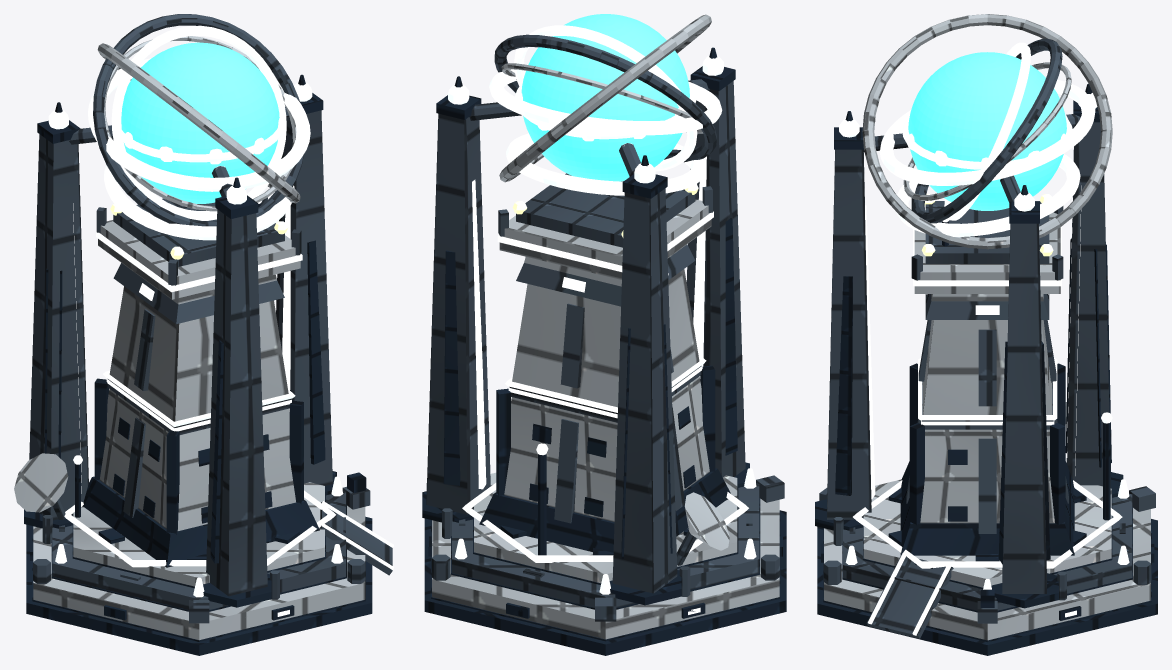
Rendered from CommandNexus.fbx.
3 views of the same model, side by side, from view 1: azimuth 30°, elevation 25°; view 2: azimuth 150°, elevation 25°; view 3: azimuth 270°, elevation 25° (orthographic). The views are drawn at different scales.
Visible parts, largest first — view 1: Pylon_03, Pylon_02, Reactor_Core, Tower_Upper, Tower_Lower, Pylon_01, Foundation_Hex_Base, Foundation_Hex_Mid, Foundation_Plinth, Tower_Skirt, Containment_Ring_02, Foundation_Hex_Top (+30 smaller); view 2: Pylon_02, Pylon_01, Reactor_Core, Tower_Upper, Foundation_Hex_Base, Pylon_03, Tower_Lower, Foundation_Hex_Mid, Foundation_Plinth, Tower_Skirt, Crown_Upper, Foundation_Hex_Top (+38 smaller); view 3: Pylon_01, Reactor_Core, Pylon_02, Pylon_03, Containment_Ring_03, Foundation_Hex_Base, Tower_Upper, Tower_Lower, Foundation_Hex_Top, Foundation_Hex_Mid, Foundation_Plinth, Tower_Skirt (+34 smaller).
Boxes of the visible parts, left/top/right/bottom form: Pylon_03: left=206, top=209, right=267, bottom=596; Pylon_02: left=29, top=134, right=88, bottom=520; Reactor_Core: left=121, top=42, right=279, bottom=203; Tower_Upper: left=109, top=286, right=288, bottom=421; Tower_Lower: left=99, top=389, right=295, bottom=530; Pylon_01: left=276, top=110, right=332, bottom=485; Foundation_Hex_Base: left=33, top=505, right=365, bottom=640; Foundation_Hex_Mid: left=52, top=491, right=345, bottom=609; Foundation_Plinth: left=26, top=516, right=372, bottom=655; Tower_Skirt: left=83, top=476, right=319, bottom=567; Containment_Ring_02: left=93, top=14, right=303, bottom=226; Foundation_Hex_Top: left=73, top=482, right=324, bottom=586; Pylon_02: left=612, top=188, right=677, bottom=593; Pylon_01: left=426, top=113, right=490, bottom=514; Reactor_Core: left=521, top=14, right=689, bottom=181; Tower_Upper: left=512, top=269, right=699, bottom=407; Foundation_Hex_Base: left=432, top=498, right=779, bottom=639; Pylon_03: left=686, top=81, right=745, bottom=477; Tower_Lower: left=504, top=376, right=709, bottom=521; Foundation_Hex_Mid: left=452, top=483, right=759, bottom=607; Foundation_Plinth: left=424, top=510, right=786, bottom=655; Tower_Skirt: left=479, top=468, right=730, bottom=552; Crown_Upper: left=516, top=173, right=695, bottom=247; Foundation_Hex_Top: left=474, top=472, right=737, bottom=583; Pylon_01: left=1002, top=223, right=1046, bottom=593; Reactor_Core: left=908, top=52, right=1066, bottom=210; Pylon_02: left=1066, top=122, right=1110, bottom=487; Pylon_03: left=827, top=149, right=871, bottom=519; Containment_Ring_03: left=862, top=14, right=1112, bottom=249; Foundation_Hex_Base: left=824, top=508, right=1150, bottom=640; Tower_Upper: left=923, top=320, right=1052, bottom=414; Tower_Lower: left=920, top=429, right=1054, bottom=523; Foundation_Hex_Top: left=863, top=479, right=1111, bottom=587; Foundation_Hex_Mid: left=843, top=493, right=1132, bottom=610; Foundation_Plinth: left=817, top=519, right=1157, bottom=655; Tower_Skirt: left=900, top=461, right=1074, bottom=555.
Size of the model in its own units: 1.98 by 2.9 by 1.73.
